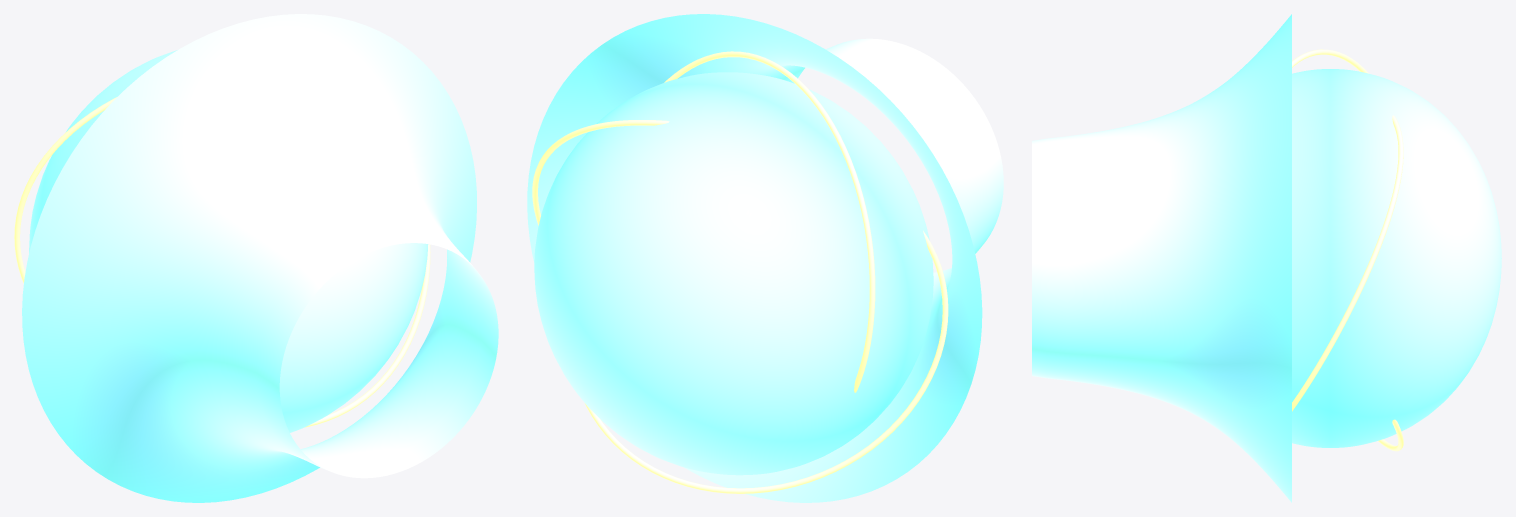
Rendered from cks_horizon_funnel.glb.
3 renders of one model, left to right at view 1: azimuth 30°, elevation 25°; view 2: azimuth 150°, elevation 25°; view 3: azimuth 270°, elevation 25°, orthographic. The views are drawn at different scales.
Parts seen in each view (by area): view 1: CKSFunnel, KerrErgosphere, PhotonRing3M; view 2: KerrErgosphere, CKSFunnel, PhotonRing3M; view 3: CKSFunnel, KerrErgosphere, PhotonRing3M.
Boxes of the visible parts, bbox=[...] form: CKSFunnel: bbox=[22, 14, 498, 502]; KerrErgosphere: bbox=[29, 50, 428, 432]; PhotonRing3M: bbox=[14, 97, 430, 427]; KerrErgosphere: bbox=[534, 72, 933, 475]; CKSFunnel: bbox=[527, 14, 1003, 502]; PhotonRing3M: bbox=[532, 51, 948, 493]; CKSFunnel: bbox=[1032, 14, 1291, 502]; KerrErgosphere: bbox=[1292, 69, 1501, 447]; PhotonRing3M: bbox=[1292, 49, 1403, 451].
Bounding box in the file's own units: 4.02 × 4.02 × 3.86.
